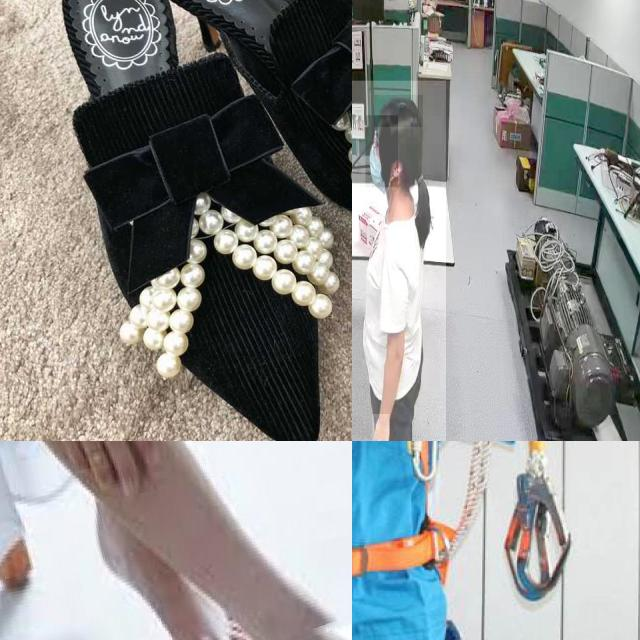Harness: (352, 441, 449, 640)
Sandals: (32, 0, 352, 441)
face_mask: (366, 116, 398, 188)
hand_noglove: (372, 413, 389, 441)
head_nohelmet: (374, 95, 424, 128)
person: (352, 80, 446, 441)
